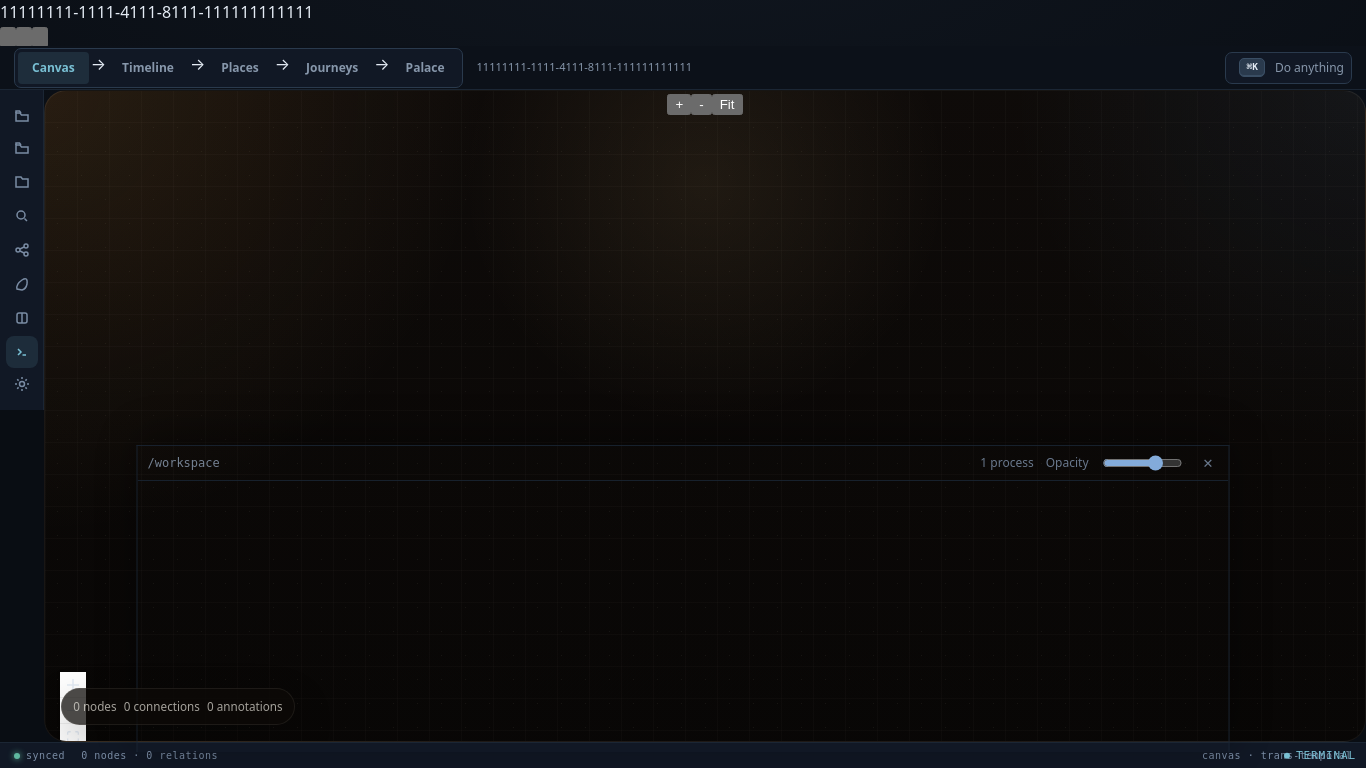
Test: Shell frame › switches the stage surface when a lens is chosen
Click the tab with test id "lens-timeline": (148, 68) x1=108 y1=52 x2=188 y2=84
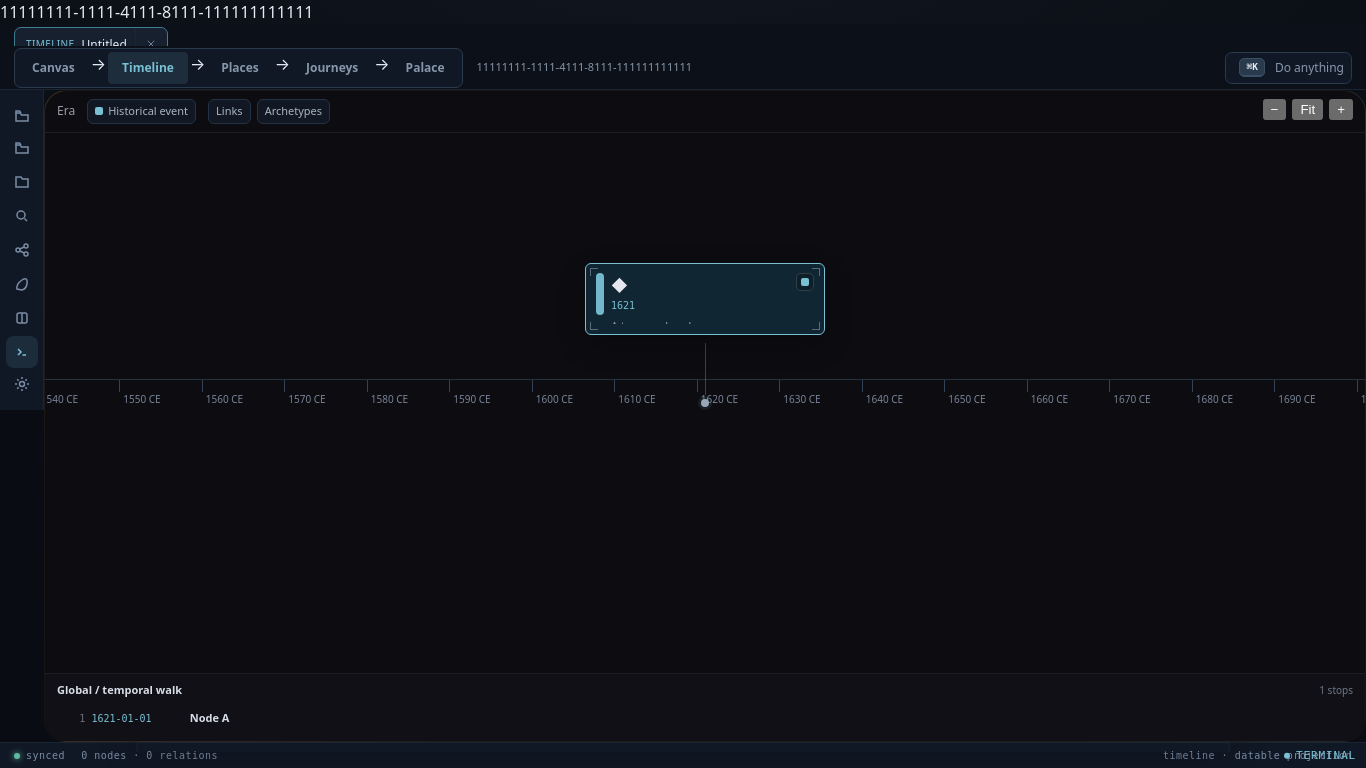
Now the element with test id "timeline-pane" is shown
